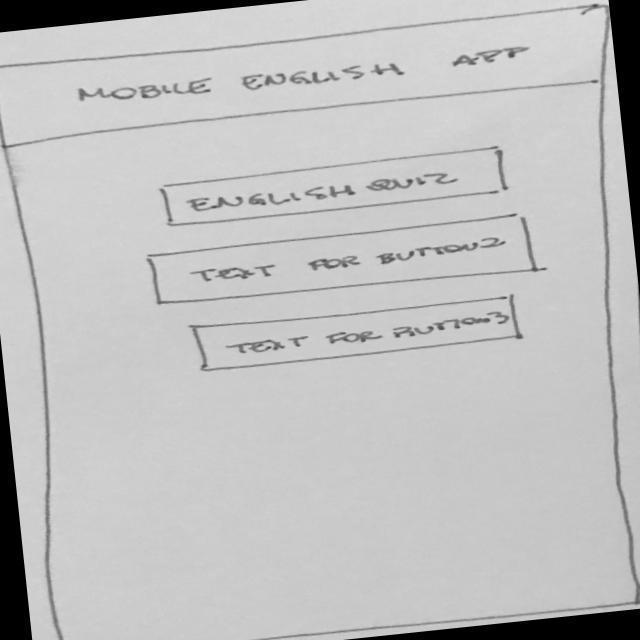button: (143, 210, 549, 317), (157, 144, 523, 235), (186, 290, 531, 378)
container: (1, 75, 640, 640), (1, 1, 616, 151)
label: (72, 37, 539, 115)
